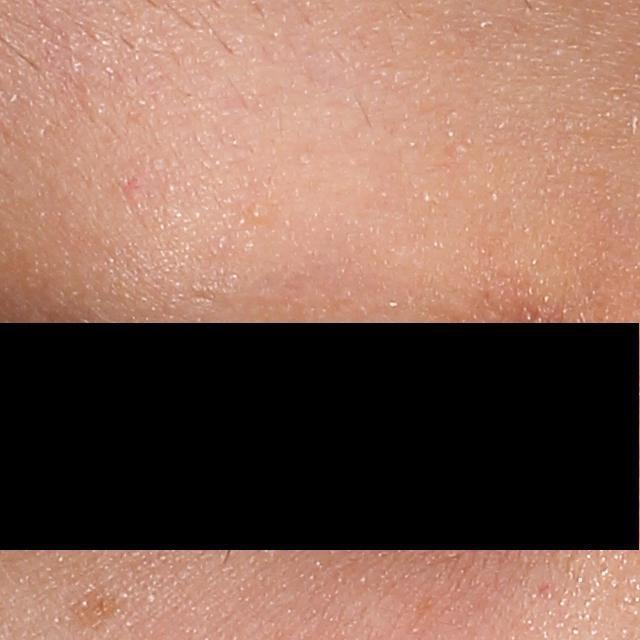comedo: (247, 203, 268, 222)
melasma: (70, 588, 120, 631)
